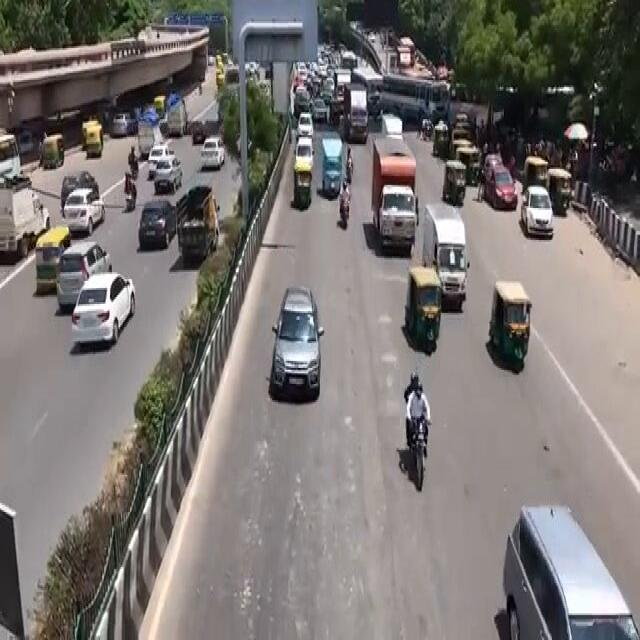three_wheeler: (486, 266, 543, 381), (401, 250, 452, 364), (284, 148, 321, 224)
